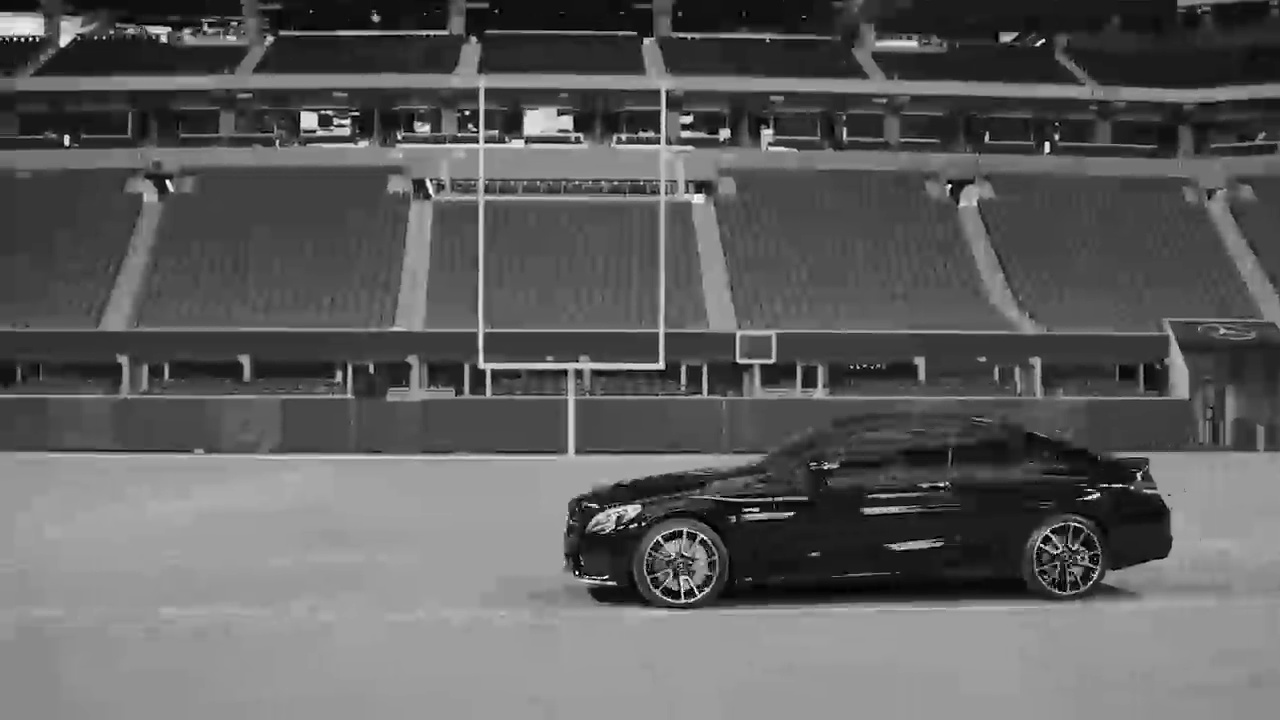car: (555, 409, 1179, 602)
